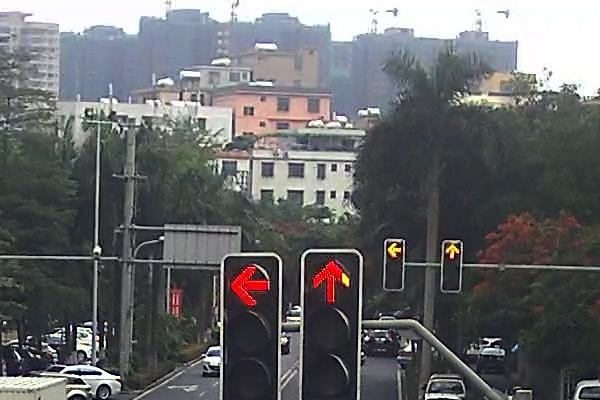redleft: (227, 265, 272, 307), (386, 240, 404, 260)
redstraight: (308, 258, 355, 305), (443, 241, 463, 260)
